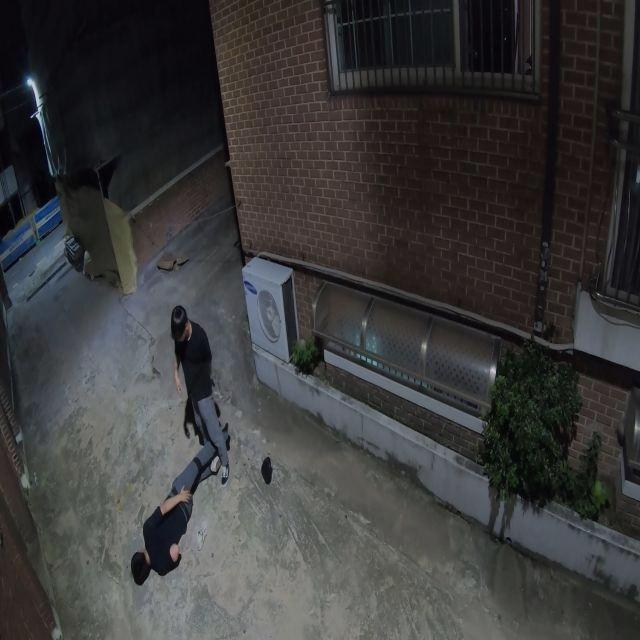fight: (128, 302, 235, 588)
